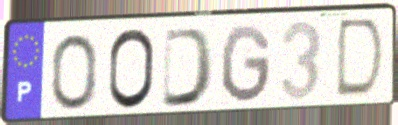3: (278, 18, 328, 105)
D: (159, 25, 217, 110), (332, 16, 388, 102)
G: (218, 22, 274, 107)
O: (106, 26, 157, 113), (49, 32, 99, 113)
